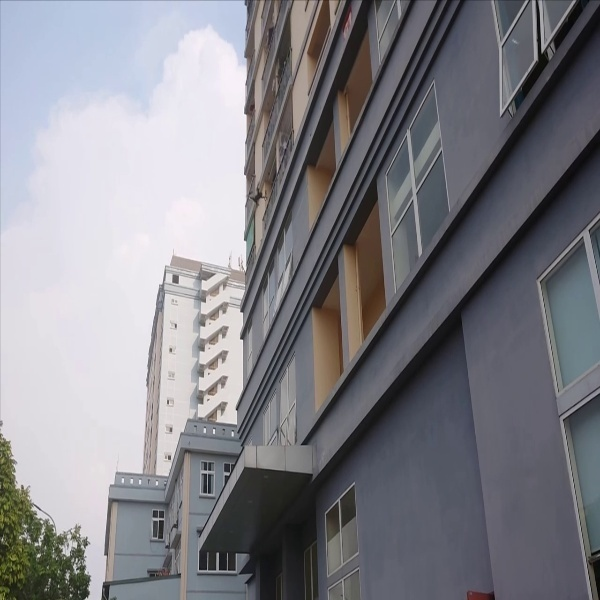drone: (242, 182, 269, 210)
